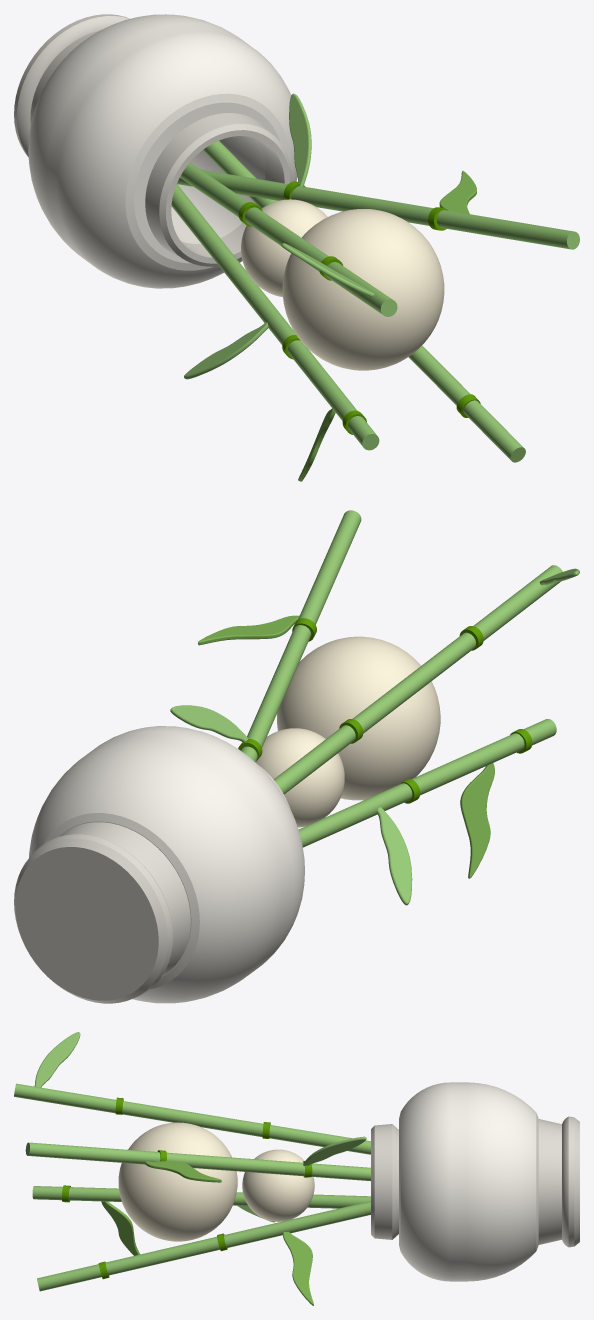
The model's file is Bamboo.glb.
3 renders of one model, top to bottom at view 1: azimuth 30°, elevation 25°; view 2: azimuth 150°, elevation 25°; view 3: azimuth 270°, elevation 25°, orthographic. The views are drawn at different scales.
Visible parts, largest first — view 1: Vase Body, Bamboo Stalk (×4), Ball, Vase Top, Vase Bottom, Ball2, Leaf 1 (×3), Leaf 2; view 2: Vase Body, Vase Bottom, Bamboo Stalk (×3), Ball, Ball2, Leaf 2 (×2), Leaf 1 (×2); view 3: Vase Body, Bamboo Stalk (×4), Ball, Vase Bottom, Ball2, Vase Top, Leaf 2 (×3), Leaf 1 (×2).
Boxes of the visible parts, bbox=[...] form: Vase Body: bbox=[28, 14, 297, 288]; Bamboo Stalk (×4): bbox=[171, 140, 579, 462]; Ball: bbox=[282, 209, 444, 370]; Vase Top: bbox=[145, 113, 292, 266]; Vase Bottom: bbox=[14, 14, 129, 157]; Ball2: bbox=[241, 199, 327, 296]; Leaf 1 (×3): bbox=[184, 93, 373, 379]; Leaf 2: bbox=[439, 171, 476, 213]; Vase Body: bbox=[29, 726, 304, 1003]; Vase Bottom: bbox=[14, 822, 190, 1003]; Bamboo Stalk (×3): bbox=[241, 510, 562, 847]; Ball: bbox=[277, 636, 440, 800]; Ball2: bbox=[255, 728, 344, 827]; Leaf 2 (×2): bbox=[198, 615, 494, 878]; Leaf 1 (×2): bbox=[170, 705, 412, 905]; Vase Body: bbox=[399, 1082, 538, 1281]; Bamboo Stalk (×4): bbox=[14, 1083, 370, 1291]; Ball: bbox=[118, 1122, 237, 1241]; Vase Bottom: bbox=[538, 1116, 579, 1247]; Ball2: bbox=[242, 1149, 314, 1221]; Vase Top: bbox=[371, 1124, 398, 1239]; Leaf 2 (×3): bbox=[101, 1161, 313, 1305]; Leaf 1 (×2): bbox=[34, 1032, 366, 1166].
Size of the model in its own units: 0.018 by 0.0176 by 0.0429.
